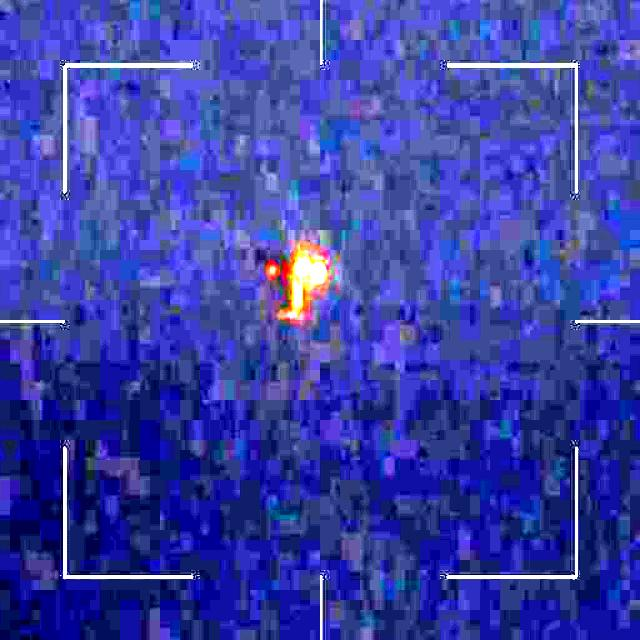bird: (256, 245, 335, 322)
